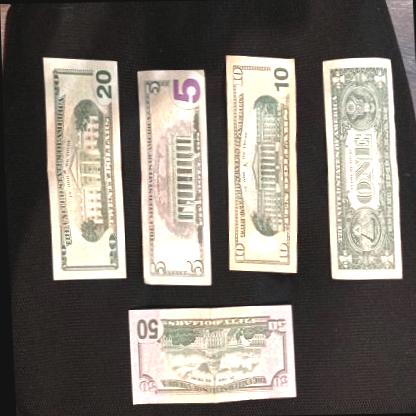fifty-back: (125, 304, 295, 404)
five-back: (132, 68, 214, 287)
one-back: (320, 57, 402, 280)
ten-back: (216, 53, 304, 274)
twenty-back: (41, 56, 127, 280)
